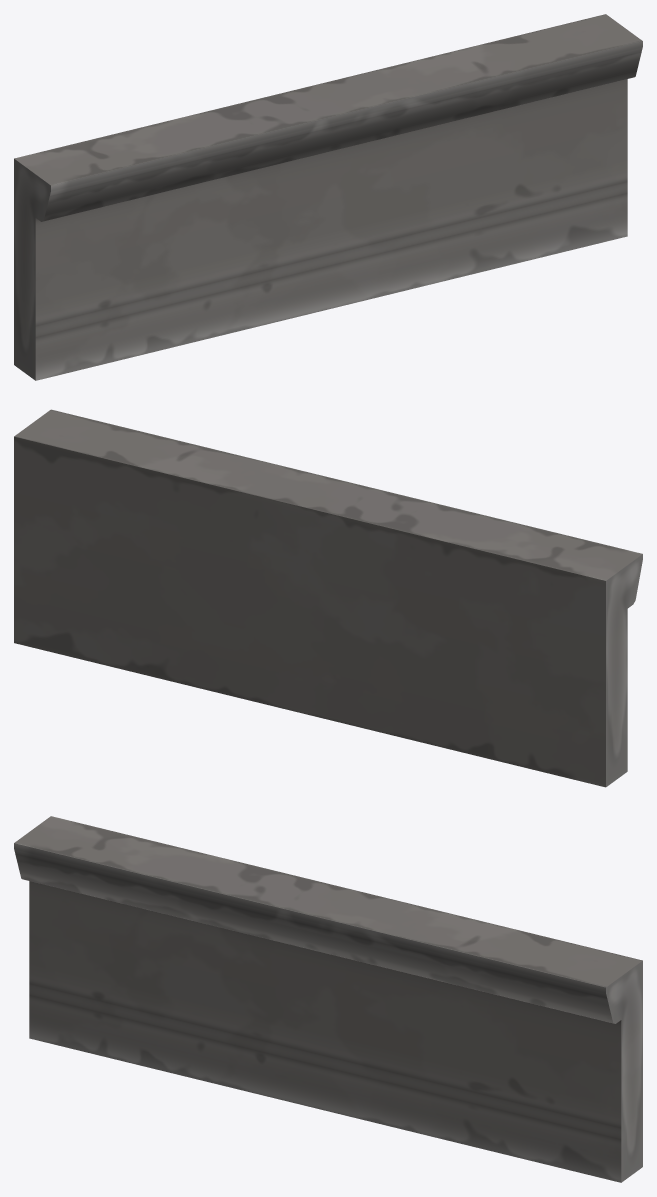
File: PropTrimFacade02_1B.FBX
3 views of the same model, one above another, from view 1: azimuth 30°, elevation 25°; view 2: azimuth 150°, elevation 25°; view 3: azimuth 330°, elevation 25° (orthographic).
Visible parts, largest first — view 1: PropTrimFacade02_1B; view 2: PropTrimFacade02_1B; view 3: PropTrimFacade02_1B.
Part boxes in pixels (box(x1,y1,x2,y2)): PropTrimFacade02_1B: box(14, 14, 642, 380); PropTrimFacade02_1B: box(14, 409, 642, 787); PropTrimFacade02_1B: box(14, 816, 642, 1182).
Size of what is drawn, in the model's own units: 2.25 by 0.75 by 0.2436.
